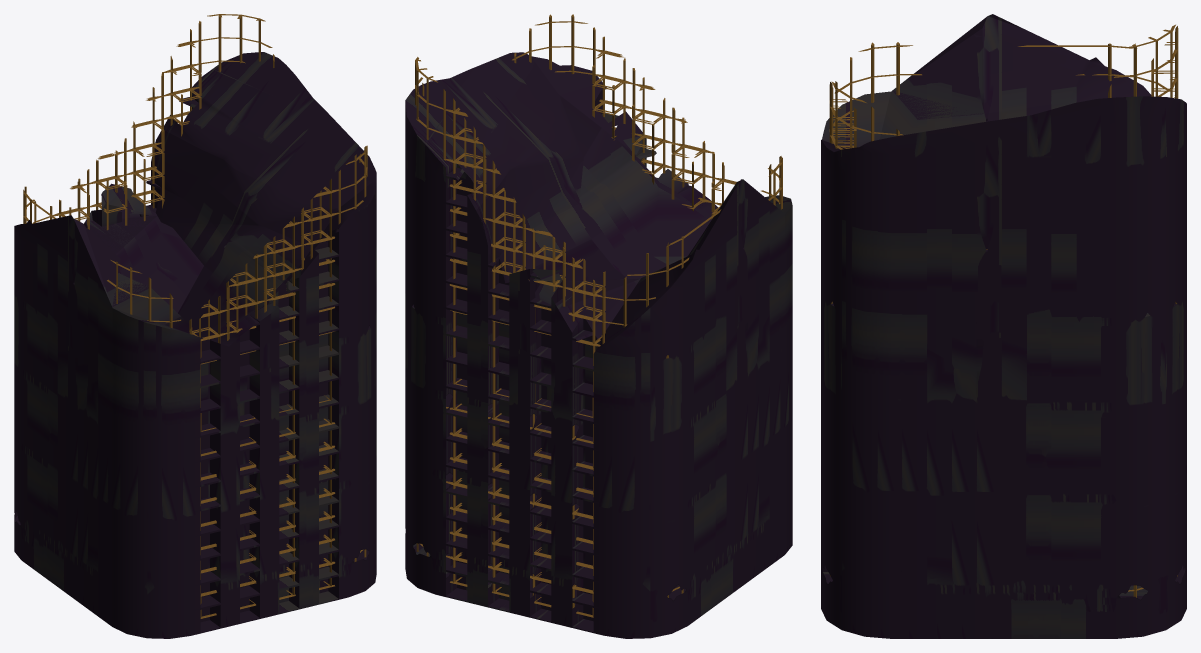
File: building3.fbx
3 views of the same model, side by side, from view 1: azimuth 30°, elevation 25°; view 2: azimuth 150°, elevation 25°; view 3: azimuth 270°, elevation 25° (orthographic). The views are drawn at different scales.
Parts seen in each view (by area): view 1: Cube.015; view 2: Cube.015; view 3: Cube.015.
Part boxes in pixels (x1,y1,x2,y2): Cube.015: [14, 14, 376, 638]; Cube.015: [405, 14, 792, 638]; Cube.015: [821, 14, 1186, 638].
Bounding box in the file's own units: 2986 × 5277 × 2986.
